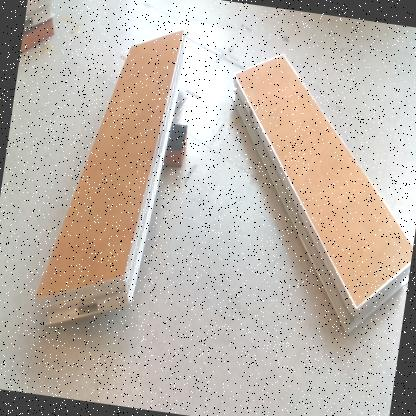Stairs: (230, 50, 414, 338), (33, 25, 189, 333), (24, 1, 54, 34)
